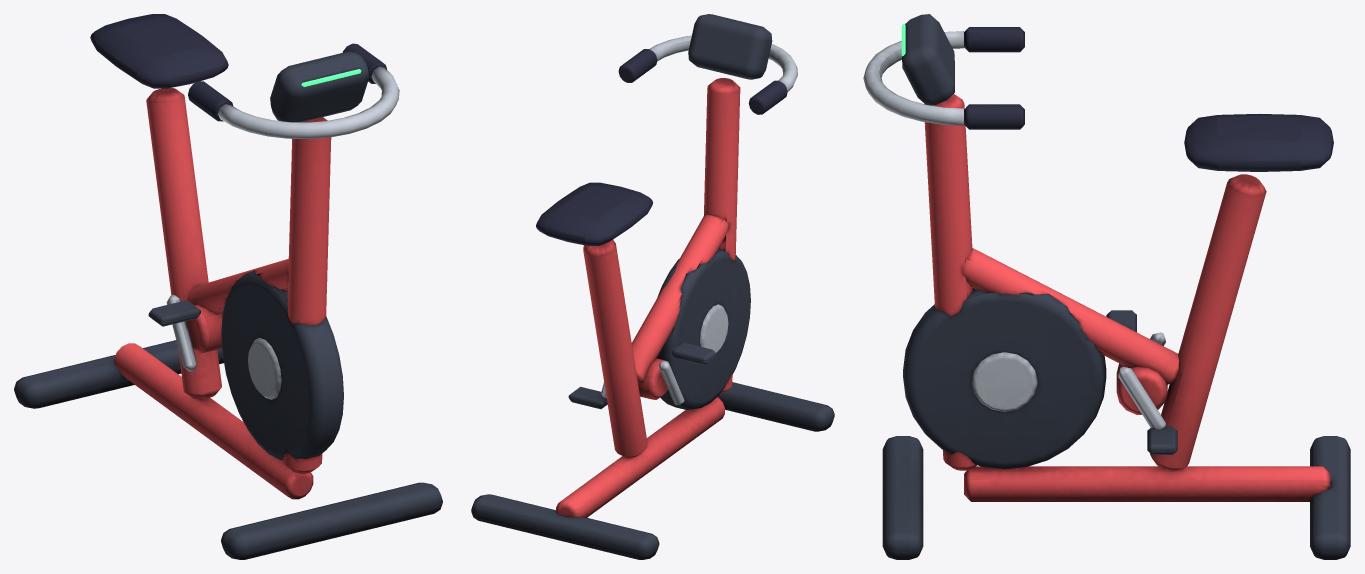
File: stationary_bike.glb
The picture shows the model from 3 angles, left to right: view 1: azimuth 30°, elevation 25°; view 2: azimuth 150°, elevation 25°; view 3: azimuth 270°, elevation 25°; orthographic projection. The views are drawn at different scales.
Parts seen in each view (by area): view 1: stationary_bike; view 2: stationary_bike; view 3: stationary_bike.
Part boxes in pixels (left/top/right/bottom): stationary_bike: left=14, top=14, right=442, bottom=559; stationary_bike: left=471, top=14, right=834, bottom=559; stationary_bike: left=863, top=14, right=1350, bottom=559.
Size of the model in its own units: 0.5 by 1.04 by 0.958.
6 materials, 5 textured.
